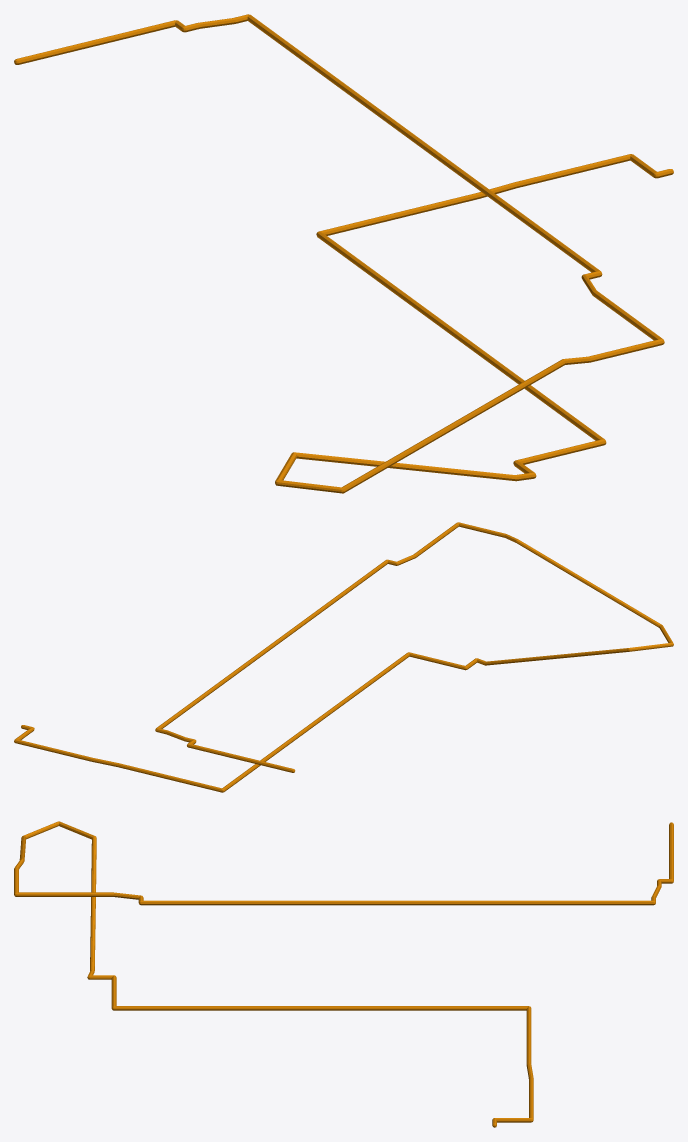
3 renders of one model, top to bottom at view 1: azimuth 30°, elevation 25°; view 2: azimuth 150°, elevation 25°; view 3: azimuth 270°, elevation 25°, orthographic. The views are drawn at different scales.
Size of the model in its own units: 2409 by 520 by 2704.
